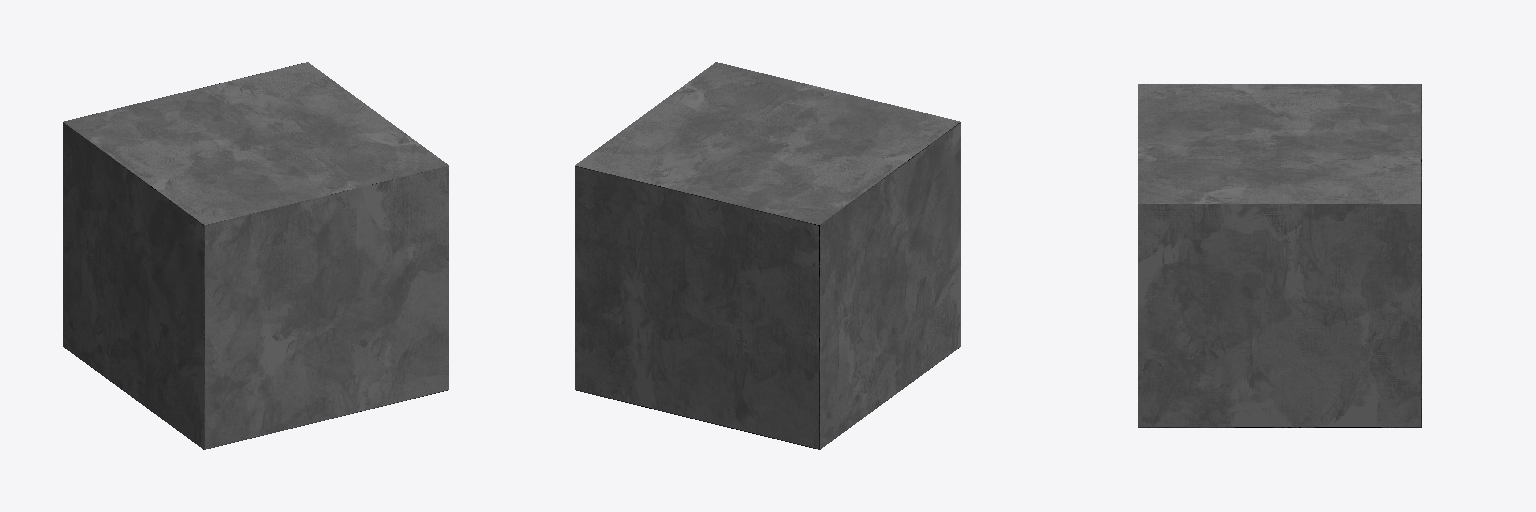
3 renders of one model, left to right at view 1: azimuth 30°, elevation 25°; view 2: azimuth 150°, elevation 25°; view 3: azimuth 270°, elevation 25°, orthographic.
Visible parts, largest first — view 1: stone_wall_Cube.011; view 2: stone_wall_Cube.011; view 3: stone_wall_Cube.011.
Part boxes in pixels (x1,y1,x2,y2): stone_wall_Cube.011: (63,62,448,449); stone_wall_Cube.011: (575,62,960,449); stone_wall_Cube.011: (1138,84,1421,427).
Size of the model in its own units: 2 by 1.75 by 2.
1 materials, 1 textured.